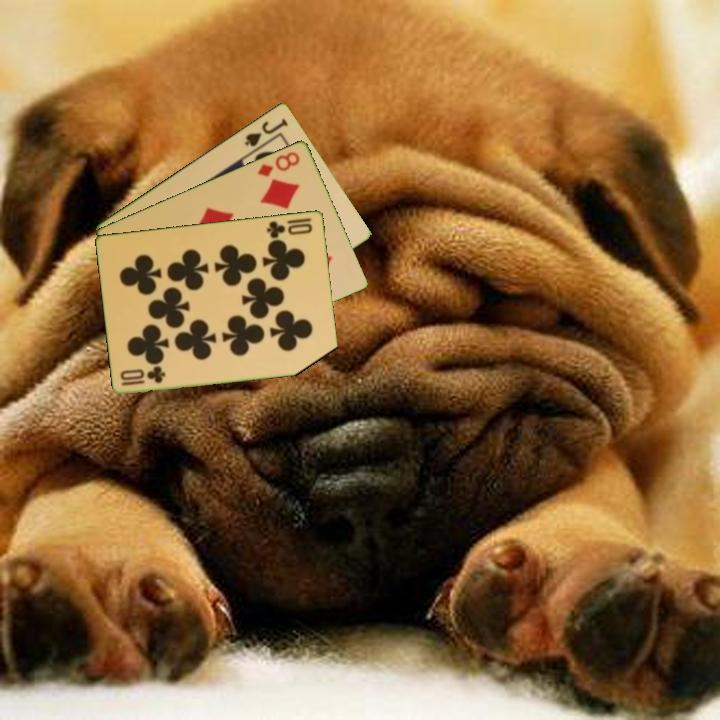10c: (263, 217, 315, 241), (118, 364, 169, 388)
8d: (253, 148, 303, 179)
Js: (241, 114, 291, 149)
